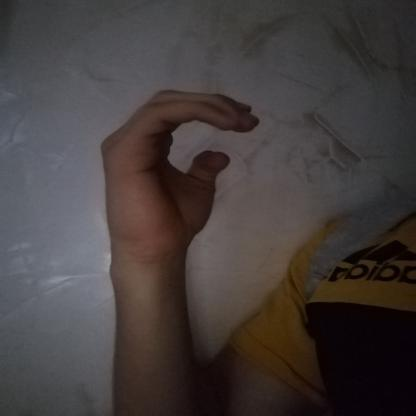JEEM: (87, 78, 273, 258)
